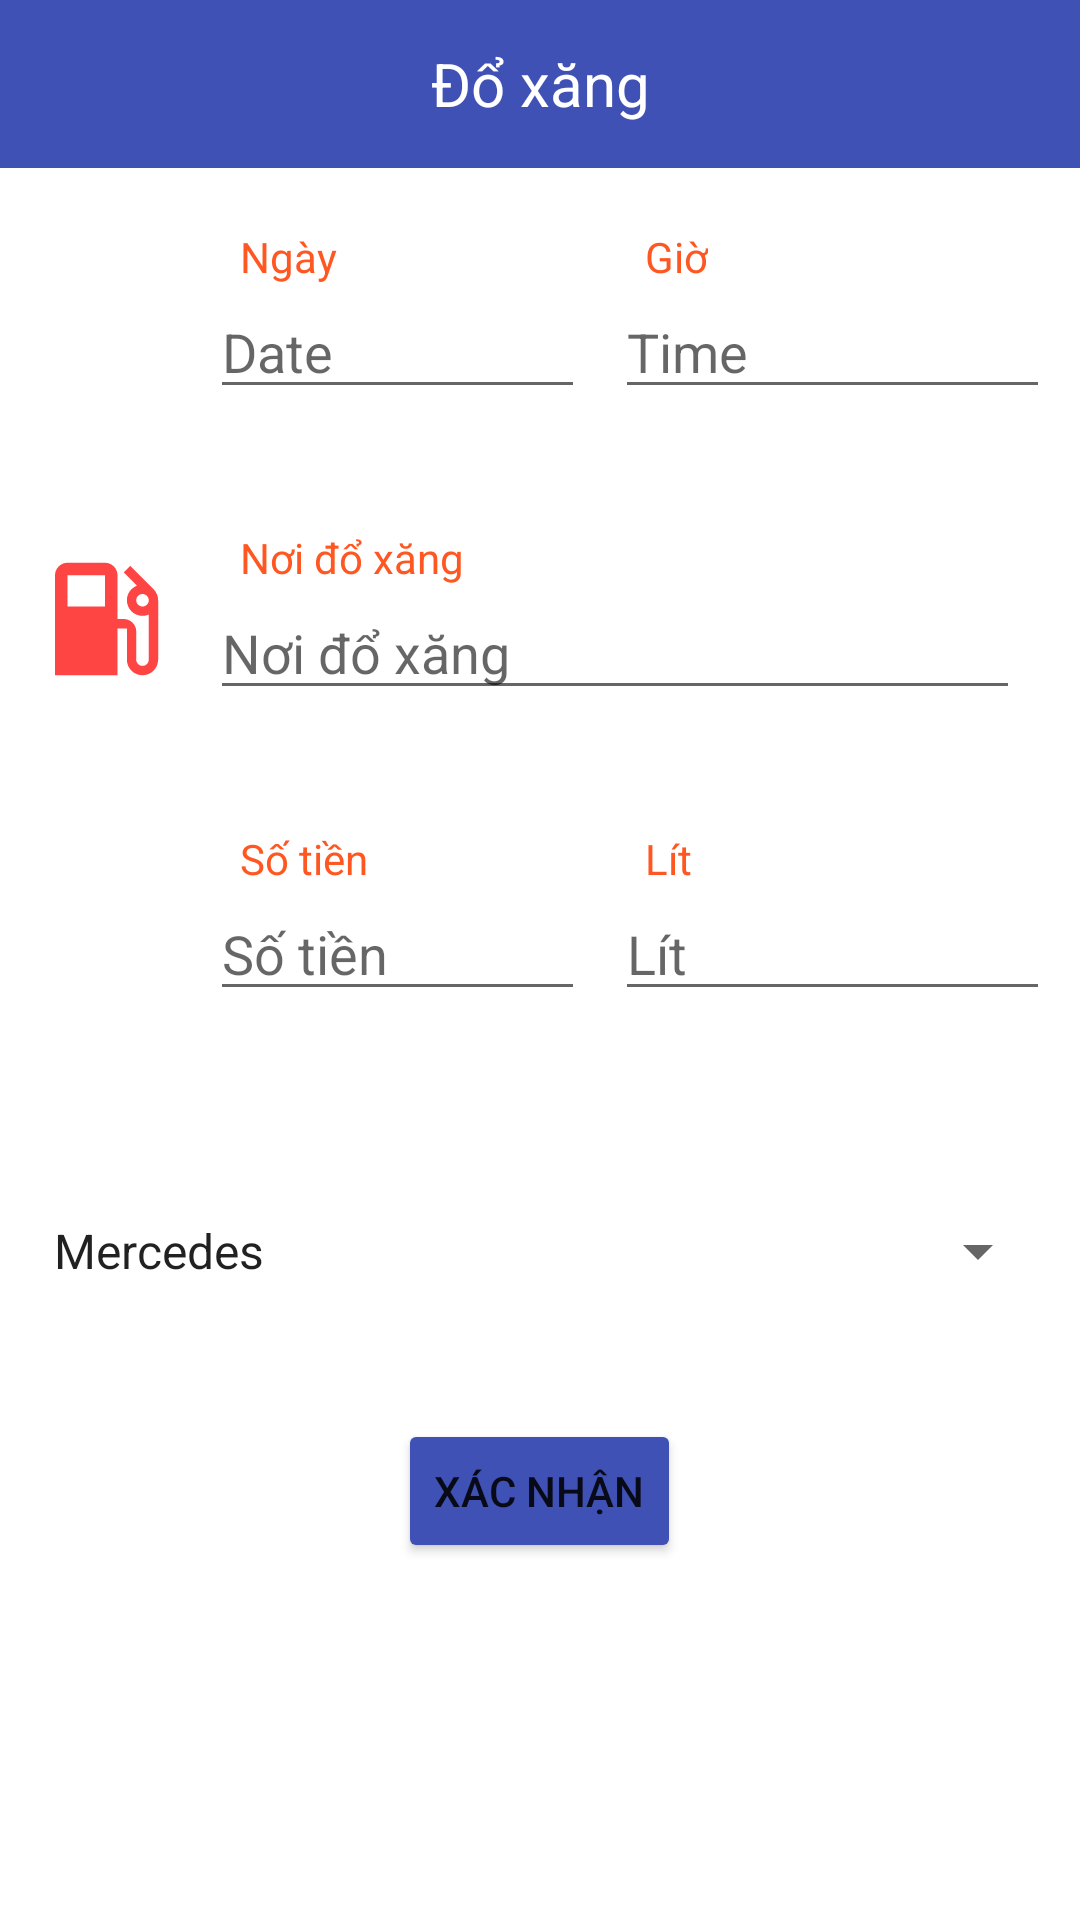

Named icons in this screenshot (1080w x 1920h) and their centers, point (x, y):
local gas station: point (107, 619)
